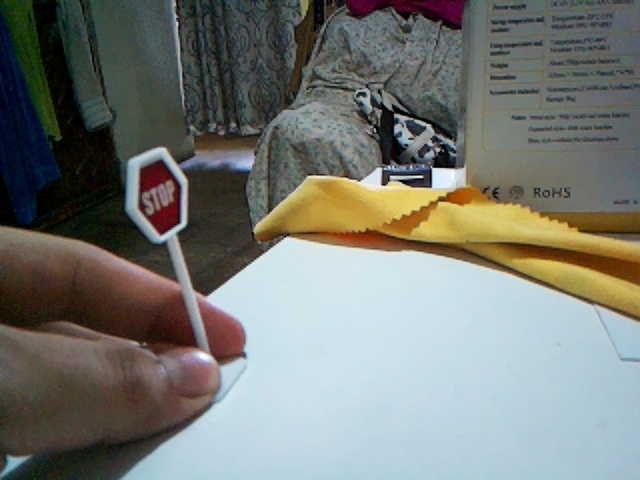stop_sign: (126, 147, 187, 242)
